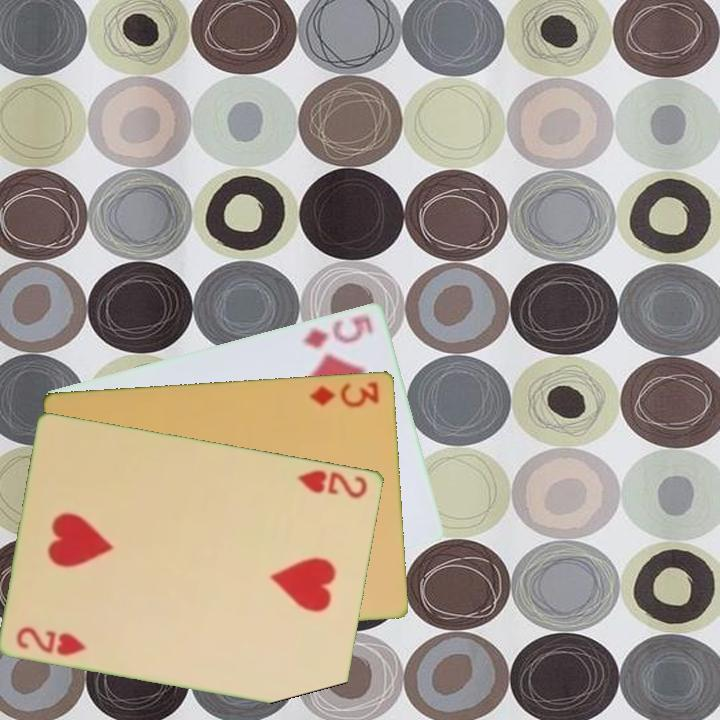2h: (293, 466, 371, 501), (13, 623, 90, 658)
3d: (306, 377, 382, 410)
5d: (299, 310, 376, 351)
